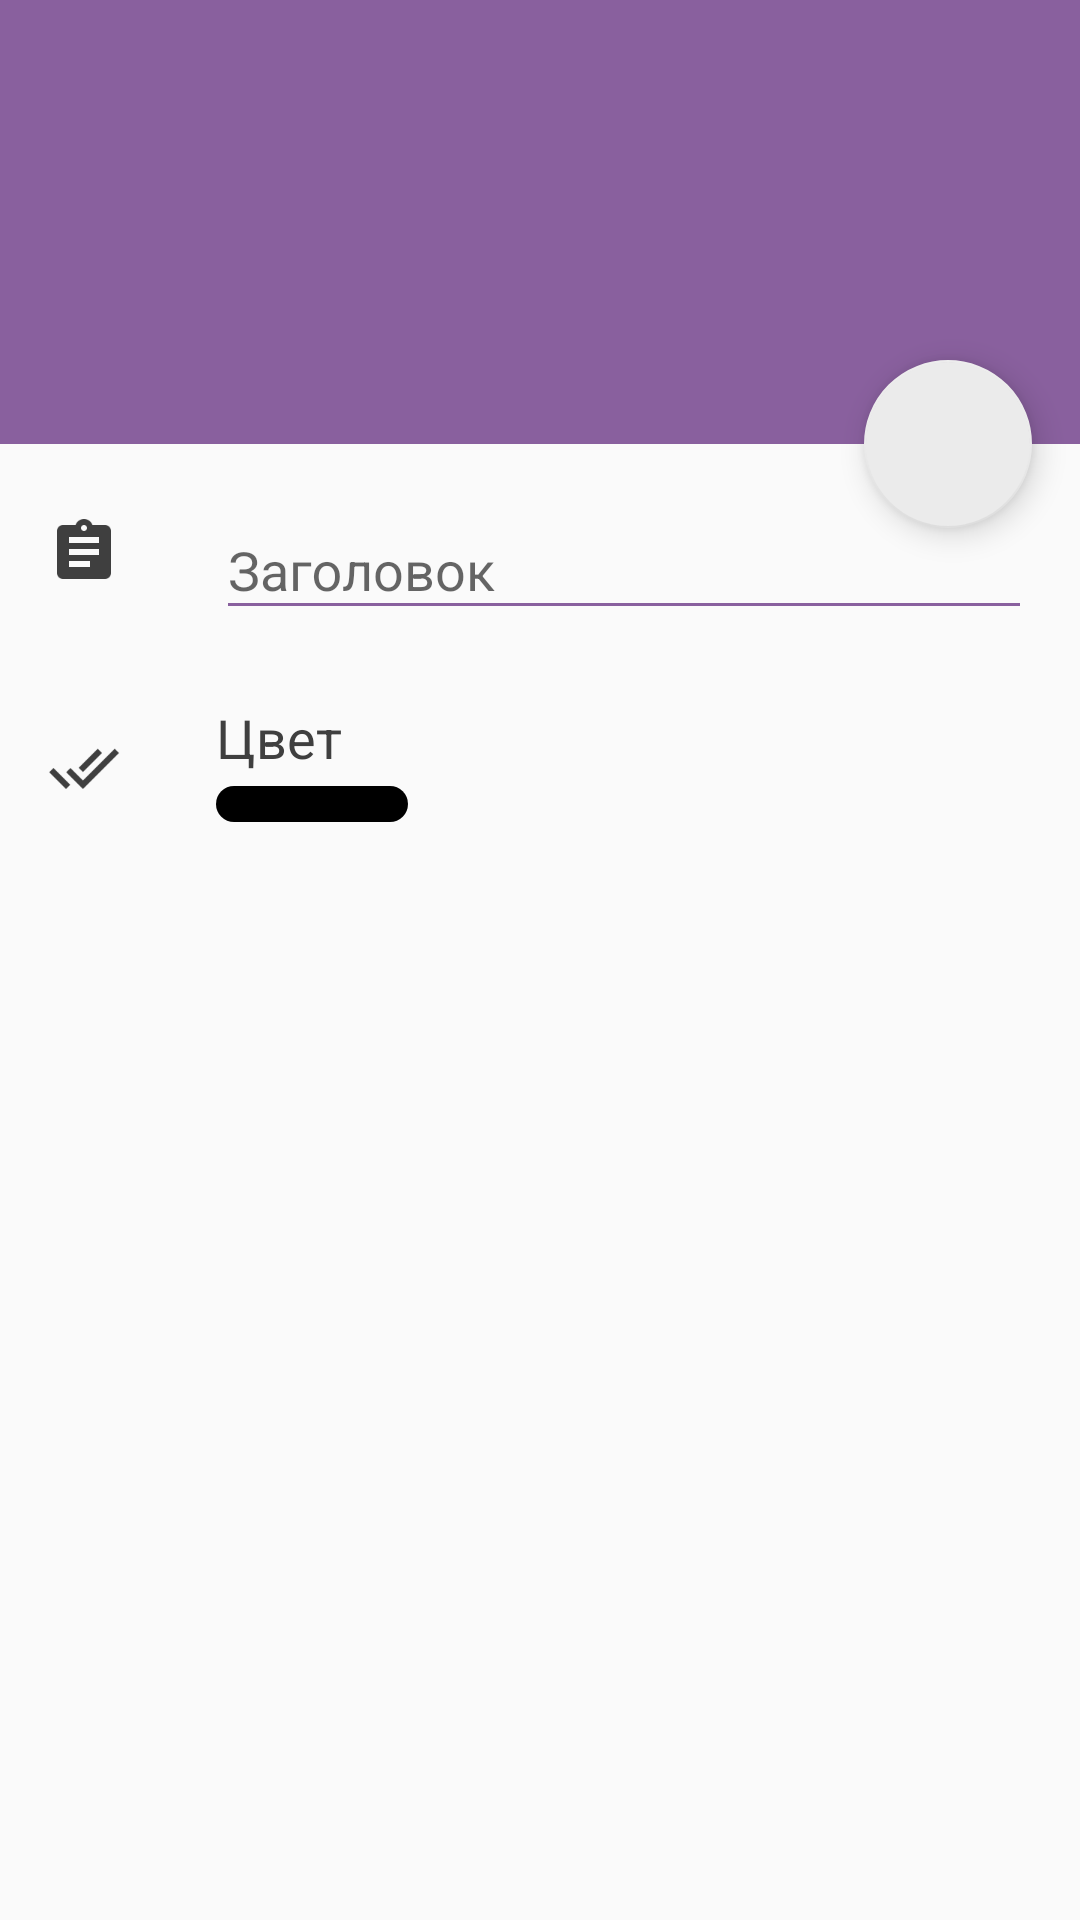

Point at icon controls on the screen. Image size 1080 x 1920, points as (x,y).
assignment: (84,549)
